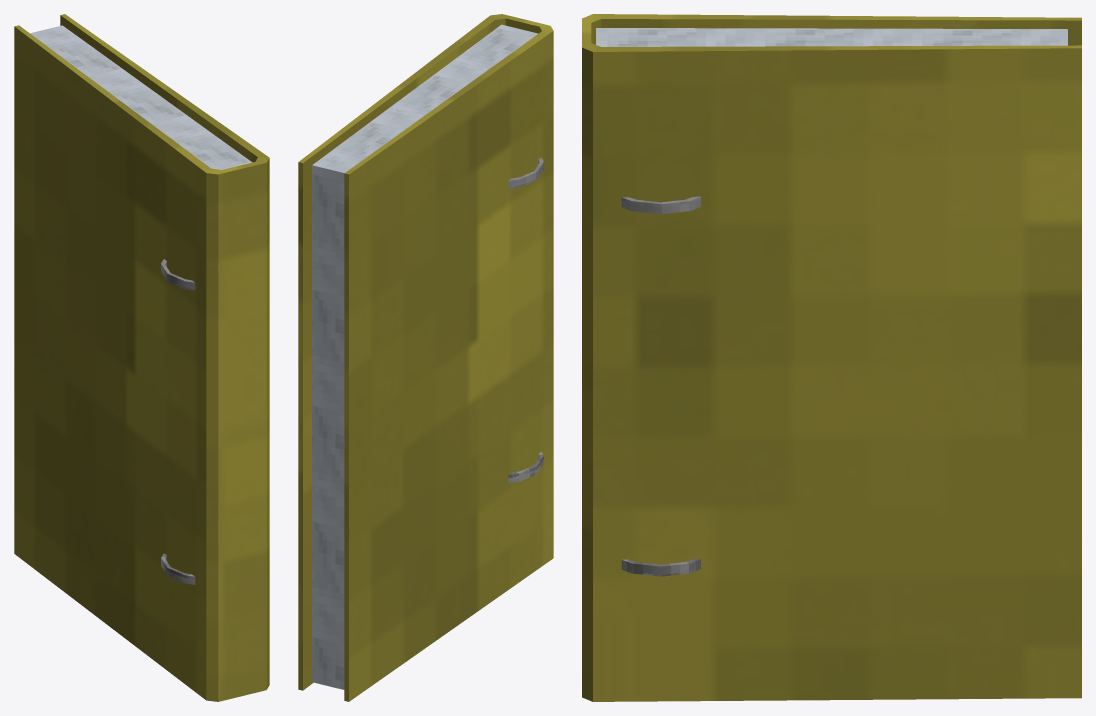
File: SM_Folder.fbx
The picture shows the model from 3 angles, left to right: view 1: azimuth 30°, elevation 25°; view 2: azimuth 150°, elevation 25°; view 3: azimuth 270°, elevation 25°; orthographic projection. The views are drawn at different scales.
Parts seen in each view (by area): view 1: SM_Folder; view 2: SM_Folder; view 3: SM_Folder.
Boxes of the visible parts, x1,y1,x2,y2 form: SM_Folder: (14,14,269,701); SM_Folder: (298,14,553,701); SM_Folder: (582,14,1081,701).
Size of the model in its own units: 8.63 by 50.85 by 35.43.
3 materials, 3 textured.
